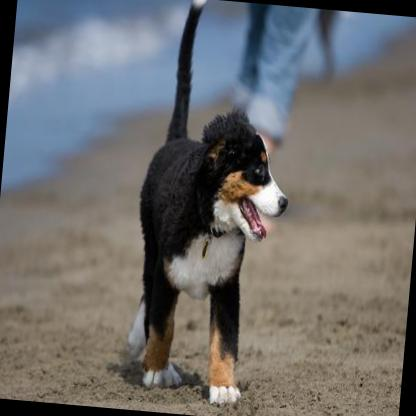Bernese_mountain_dog: (121, 0, 305, 407)
